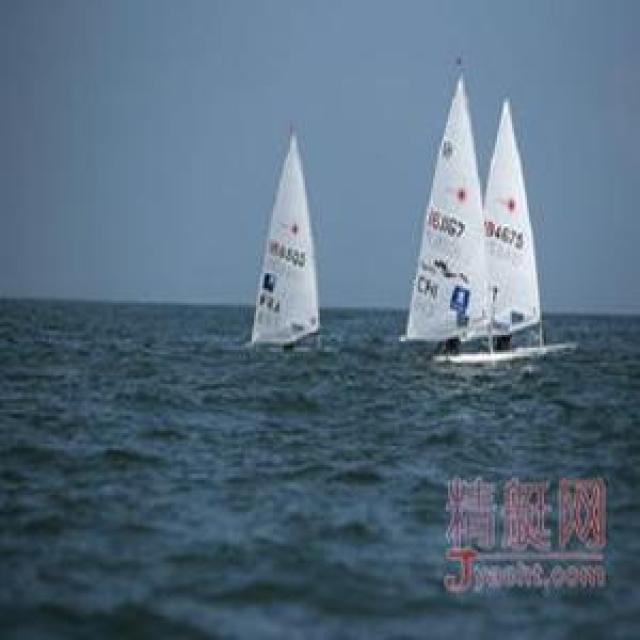sailboat: (400, 84, 496, 375), (470, 102, 555, 371), (235, 120, 326, 357)
